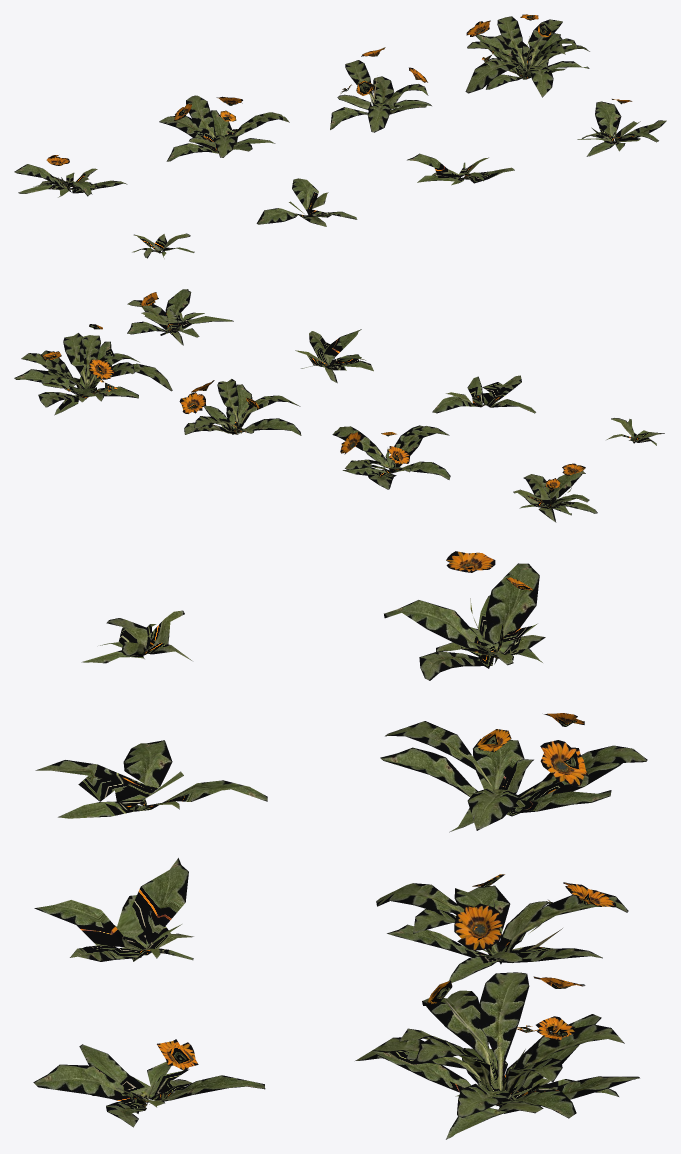
The model's file is flower_gazania.glb.
The picture shows the model from 3 angles, top to bottom: view 1: azimuth 30°, elevation 25°; view 2: azimuth 150°, elevation 25°; view 3: azimuth 270°, elevation 25°; orthographic projection. The views are drawn at different scales.
Visible parts, largest first — view 1: flower_gazania_h_LOD0, flower_gazania_f_LOD0, flower_gazania_g_LOD0, flower_gazania_d_LOD0, flower_gazania_e_LOD0, flower_gazania_b_LOD0, flower_gazania_c_LOD0, flower_gazania_a_LOD0; view 2: flower_gazania_h_LOD0, flower_gazania_g_LOD0, flower_gazania_f_LOD0, flower_gazania_d_LOD0, flower_gazania_e_LOD0, flower_gazania_b_LOD0, flower_gazania_c_LOD0, flower_gazania_a_LOD0; view 3: flower_gazania_h_LOD0, flower_gazania_f_LOD0, flower_gazania_g_LOD0, flower_gazania_e_LOD0, flower_gazania_c_LOD0, flower_gazania_d_LOD0, flower_gazania_b_LOD0, flower_gazania_a_LOD0.
Boxes of the visible parts, x1,y1,x2,y2 form: flower_gazania_h_LOD0: [465, 14, 589, 97]; flower_gazania_f_LOD0: [159, 95, 289, 161]; flower_gazania_g_LOD0: [330, 47, 431, 132]; flower_gazania_d_LOD0: [577, 99, 666, 156]; flower_gazania_e_LOD0: [14, 155, 127, 197]; flower_gazania_b_LOD0: [256, 178, 357, 226]; flower_gazania_c_LOD0: [407, 153, 514, 185]; flower_gazania_a_LOD0: [132, 233, 194, 258]; flower_gazania_h_LOD0: [14, 324, 172, 415]; flower_gazania_g_LOD0: [179, 379, 301, 435]; flower_gazania_f_LOD0: [332, 425, 450, 489]; flower_gazania_d_LOD0: [127, 289, 233, 345]; flower_gazania_e_LOD0: [513, 463, 597, 522]; flower_gazania_b_LOD0: [432, 375, 535, 413]; flower_gazania_c_LOD0: [295, 329, 373, 383]; flower_gazania_a_LOD0: [606, 418, 664, 445]; flower_gazania_h_LOD0: [355, 972, 639, 1139]; flower_gazania_f_LOD0: [380, 713, 647, 832]; flower_gazania_g_LOD0: [376, 874, 628, 982]; flower_gazania_e_LOD0: [384, 551, 545, 680]; flower_gazania_c_LOD0: [34, 858, 193, 961]; flower_gazania_d_LOD0: [33, 1039, 265, 1127]; flower_gazania_b_LOD0: [35, 740, 267, 818]; flower_gazania_a_LOD0: [81, 610, 191, 663].
Bounding box in the file's own units: 1.48 × 0.164 × 0.7009.
1 material, 1 textured.
